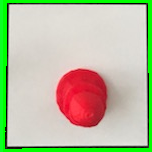Red Bishop: (52, 63, 113, 131)
